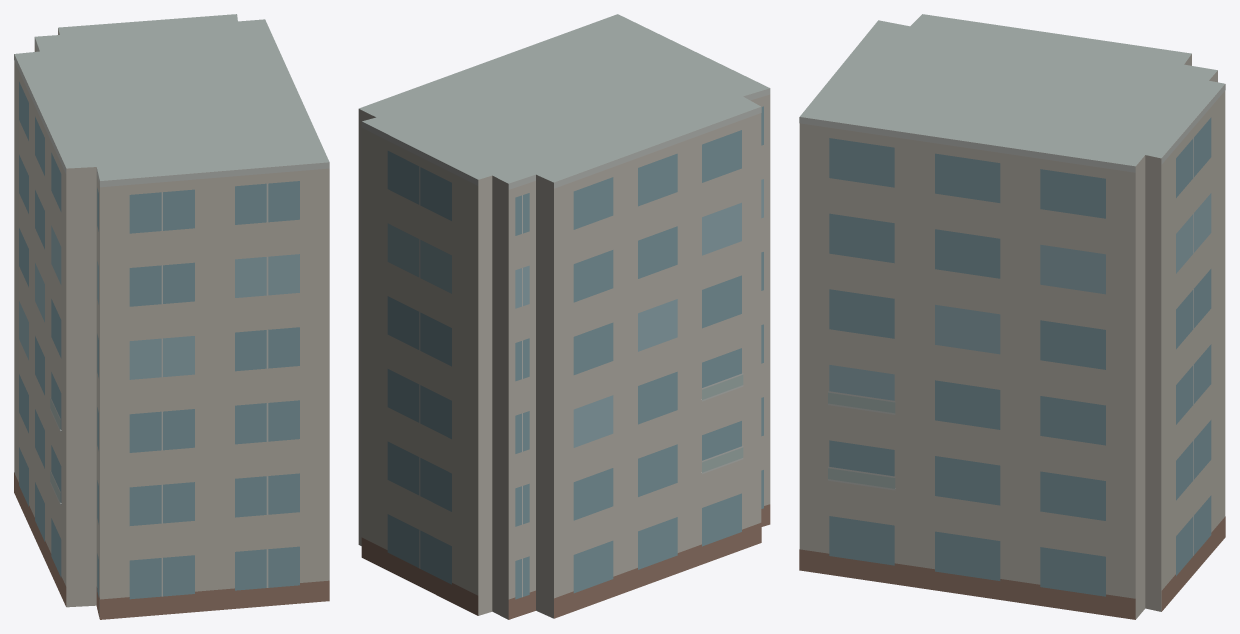
File: survey-upis-32880198.glb
3 views of the same model, side by side, from view 1: azimuth 30°, elevation 25°; view 2: azimuth 150°, elevation 25°; view 3: azimuth 270°, elevation 25° (orthographic). The views are drawn at different scales.
Visible parts, largest first — view 1: survey-upis-32880198.tmp; view 2: survey-upis-32880198.tmp; view 3: survey-upis-32880198.tmp.
Part boxes in pixels (left/top/right/bottom): survey-upis-32880198.tmp: left=14, top=14, right=329, bottom=619; survey-upis-32880198.tmp: left=358, top=14, right=770, bottom=619; survey-upis-32880198.tmp: left=799, top=14, right=1225, bottom=619.
Bounding box in the file's own units: 12.4 × 17.2 × 14.65.
